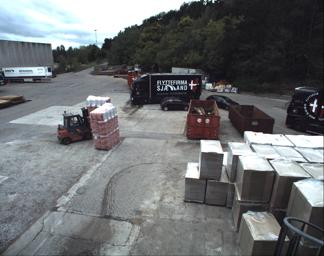rockwool_batts: (89, 103, 119, 148), (86, 94, 108, 114)
